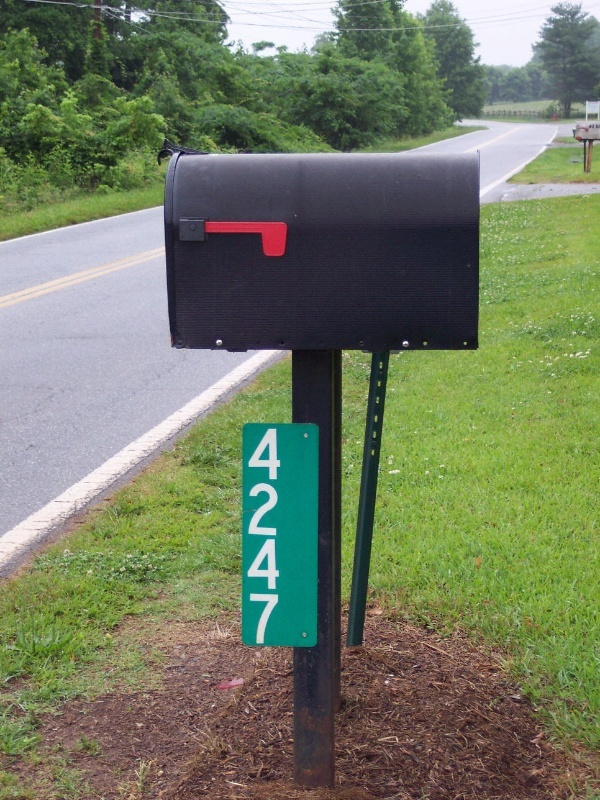text: (257, 428, 272, 644), (246, 428, 256, 644), (273, 428, 281, 644), (593, 123, 600, 129), (589, 123, 592, 129)
